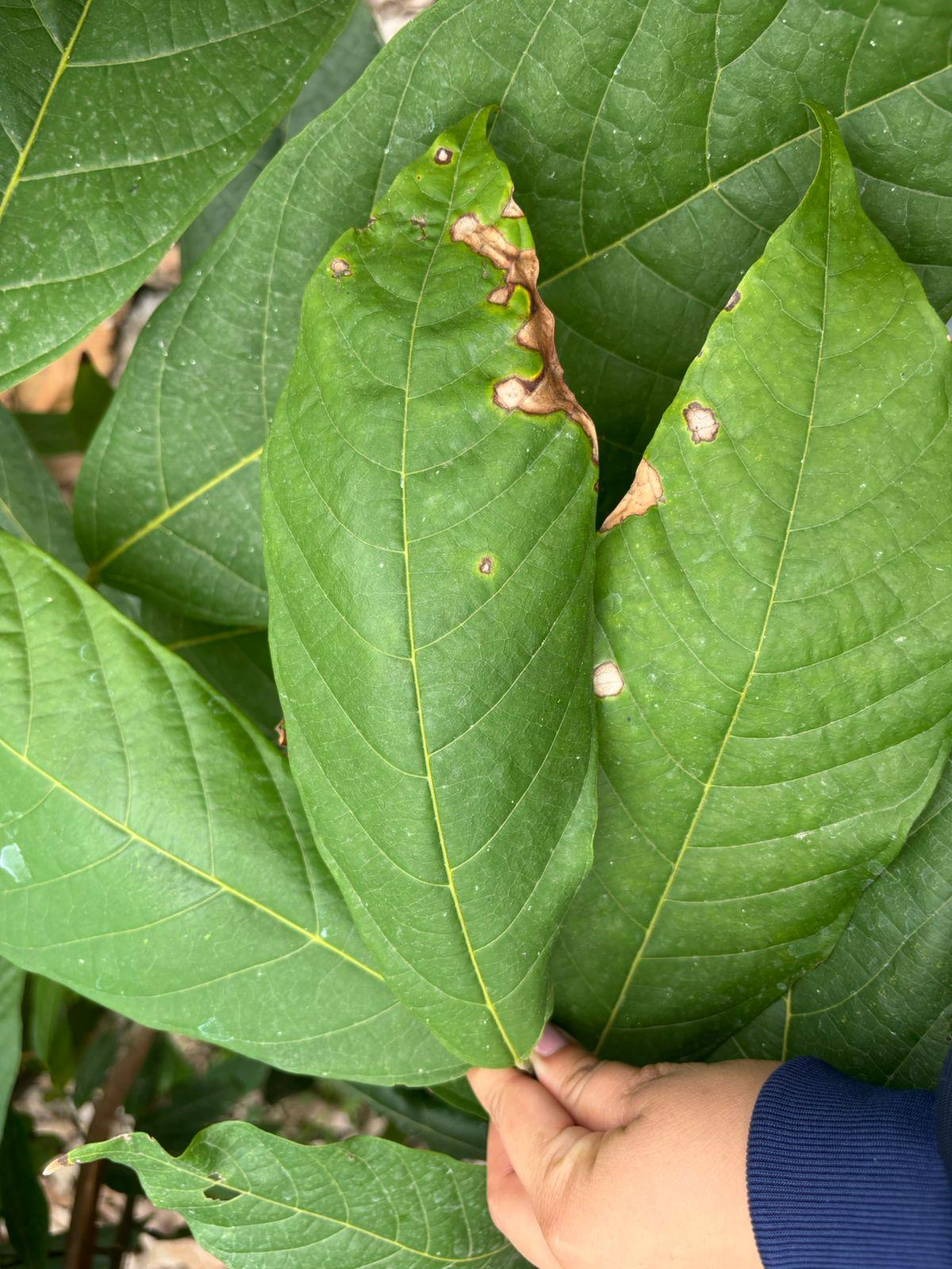Potasio: (554, 116, 951, 1062), (263, 110, 598, 1068)
